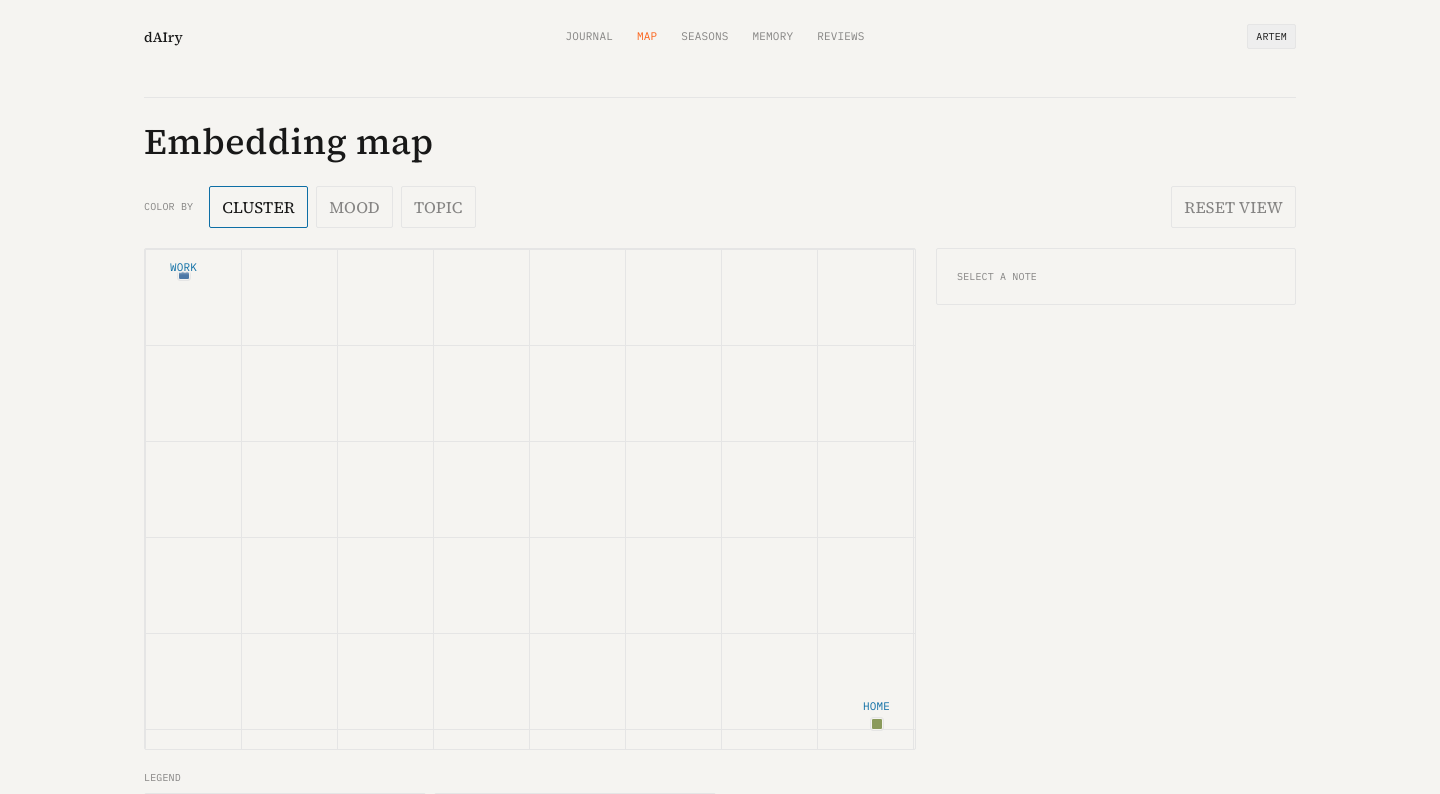
Test case: Phase 3 map view › 409 from NotePanel save keeps the attempted edit visible after reloading server text
This screenshot has width=1440, height=794.
Click the button named "NOTE 1" at (184, 274), box [178,268,190,280]
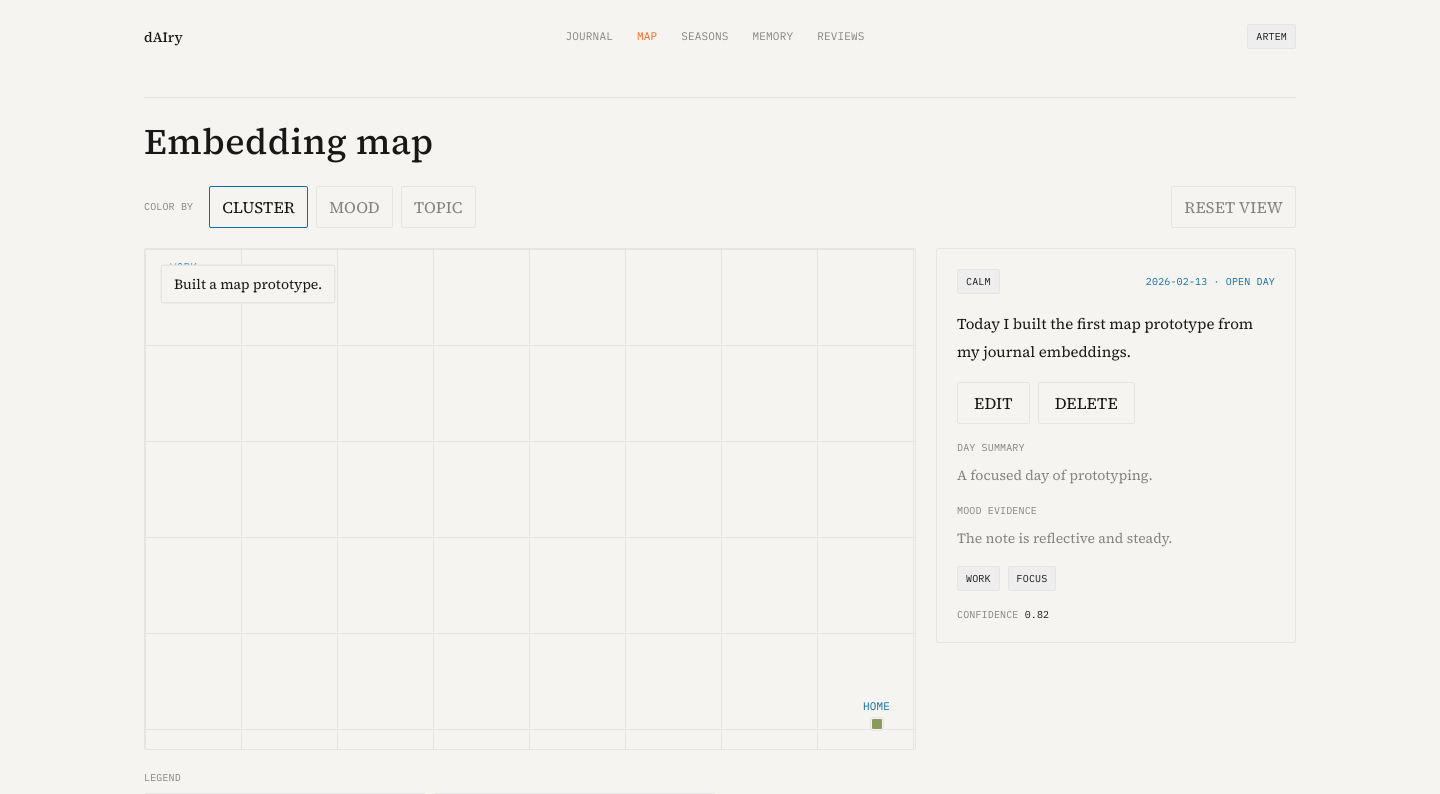
Click the button "EDIT" at (993, 403), box [957,382,1030,424]
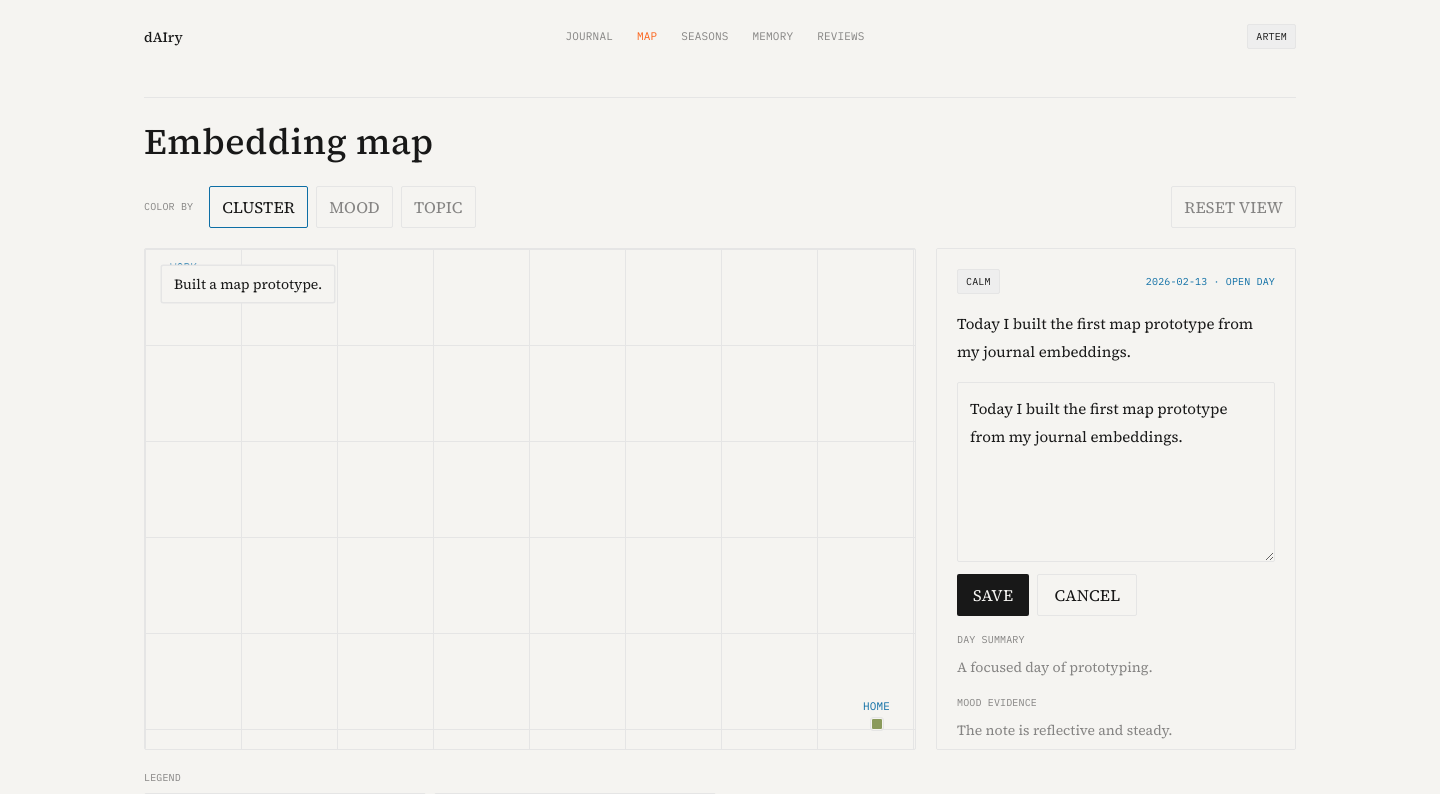
Replace the text in the text box with "My unsaved map-panel version." at (1116, 472), box [957,382,1275,562]
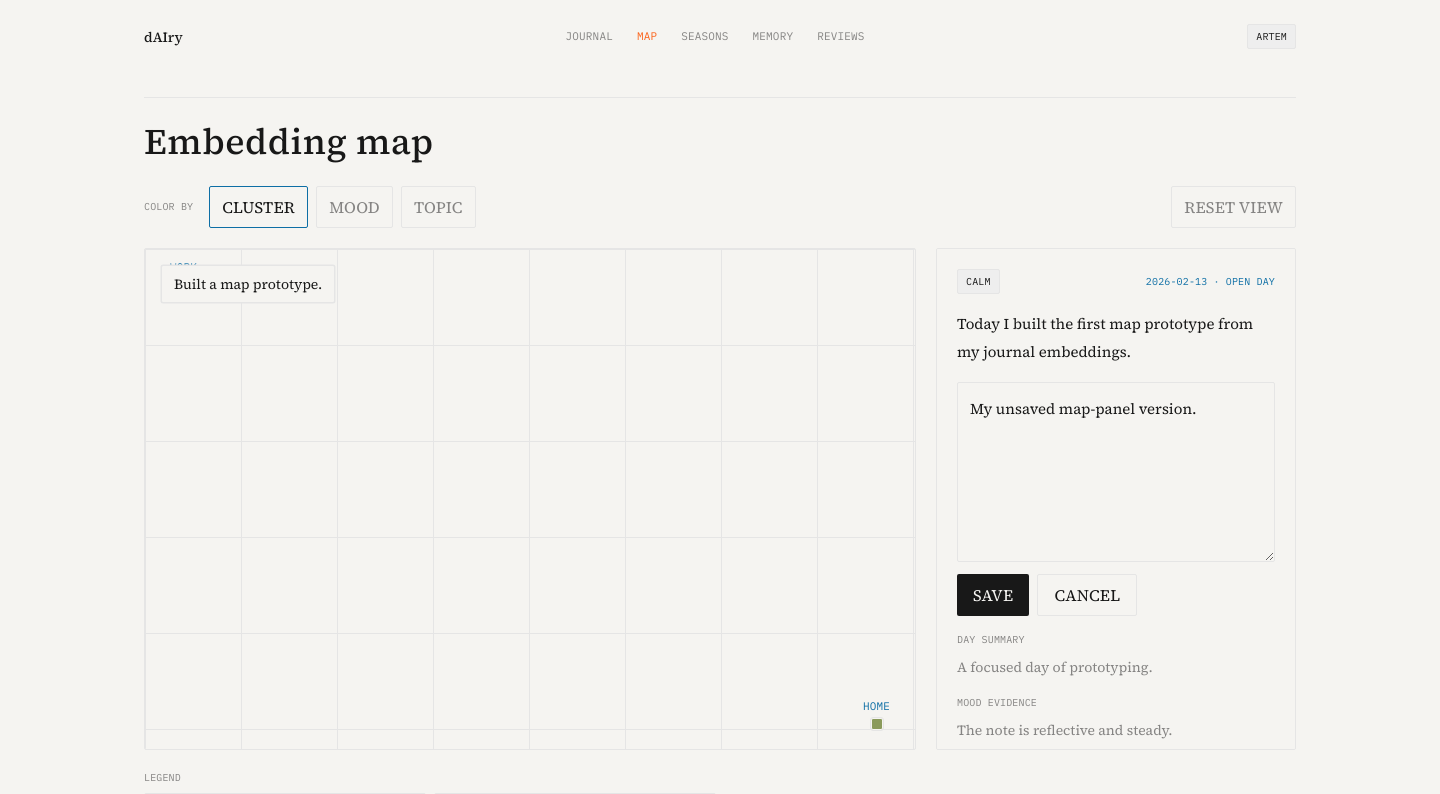
Click the button "SAVE" at (993, 595), box [957,574,1029,616]
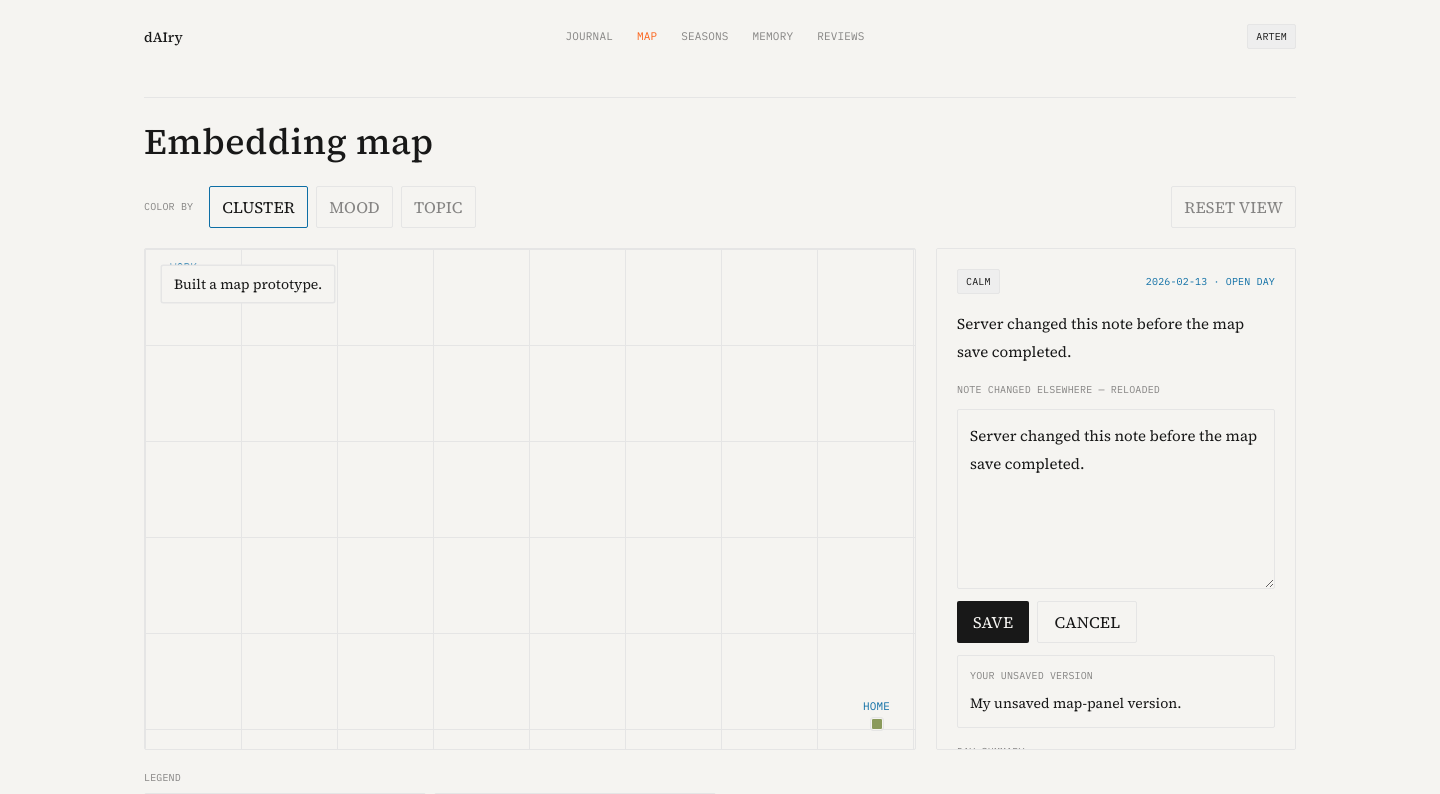
Expected: the text "NOTE CHANGED ELSEWHERE — RELOADED" is shown, [957,383,1160,396]
Expected: the text box holds "Server changed this note before the map save completed.", [957,409,1275,589]
Expected: the text "YOUR UNSAVED VERSION" is shown, [970,669,1093,682]
